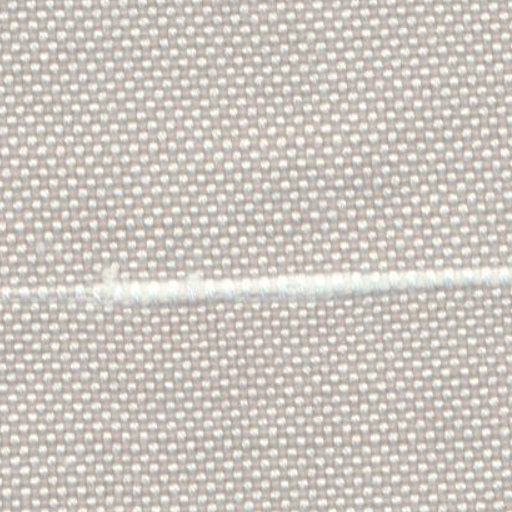DaiSha: (60, 247, 504, 310)
